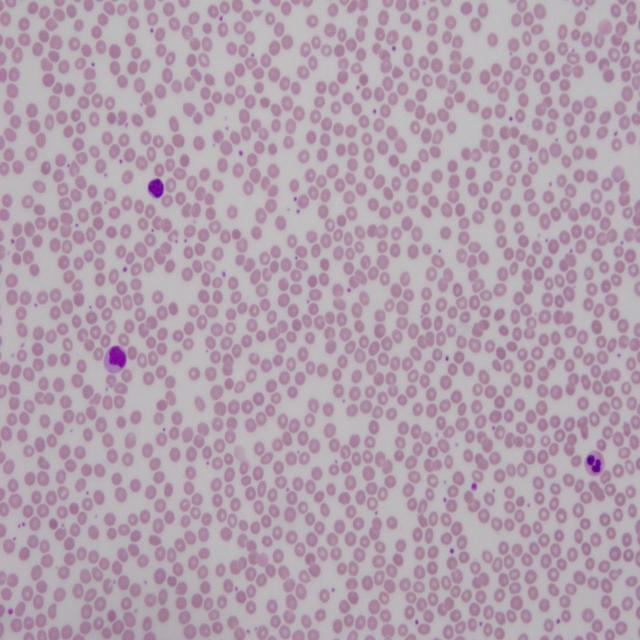cell: (585, 451, 604, 475)
